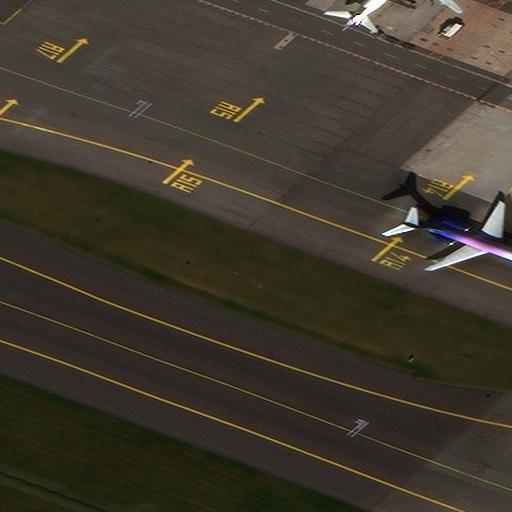Medium Civil Transport: (401, 204, 511, 271), (339, 0, 462, 24)
